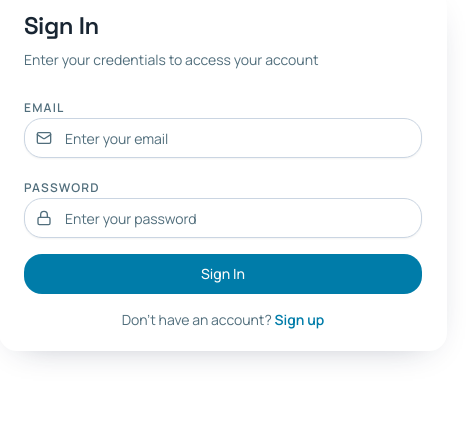
Scenario: LoginForm › validates required fields on submit
Click the button "Sign In" at (223, 274), box [24,254,422,294]
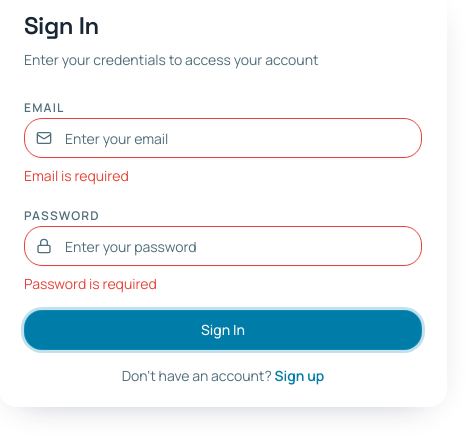
Expected: the text "Email is required" is shown, [24,166,129,185]
Expected: the text "Password is required" is shown, [24,274,157,293]
